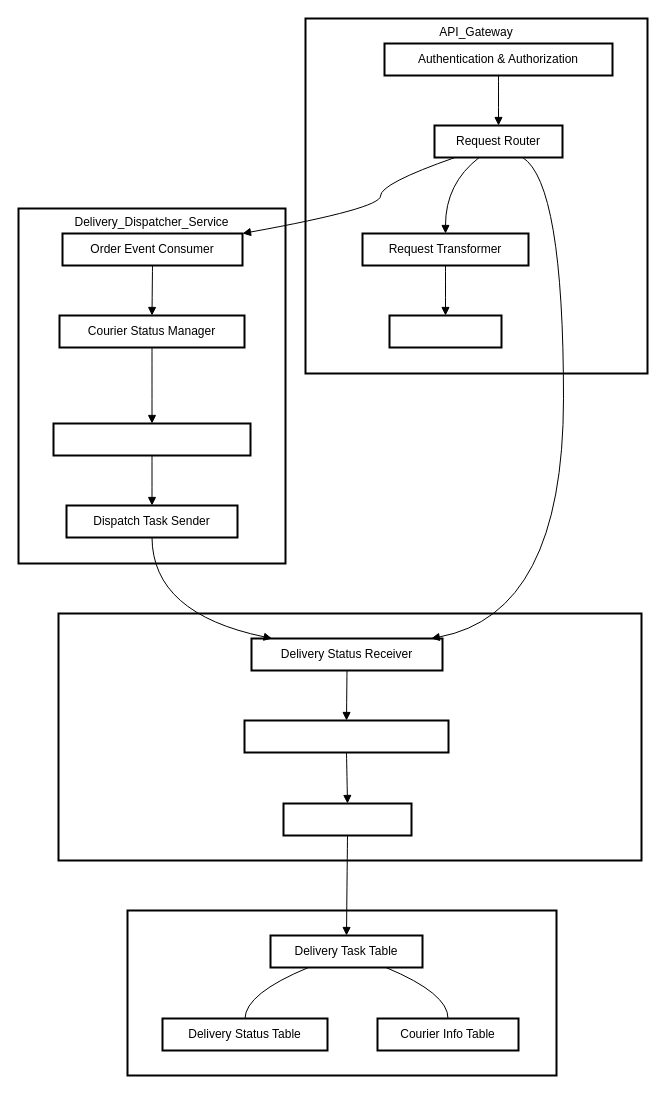
Some shapes in this 665 by 1093 pixel diagram are drawn without their labels. The shapes that lost their labels are listed below. From the top down, each one's box as (x1, y1, x2, y2) in pixels, then its label:
(388, 314, 502, 348): Error Handler
(52, 422, 251, 456): Dispatch Decision Engine
(243, 719, 449, 753): Order Status Synchronizer
(57, 612, 642, 861): Delivery_Tracking_Service
(282, 802, 412, 836): Event Publisher
(126, 909, 557, 1076): Delivery_Database
